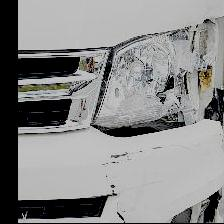head_lamp: (101, 31, 223, 136)
